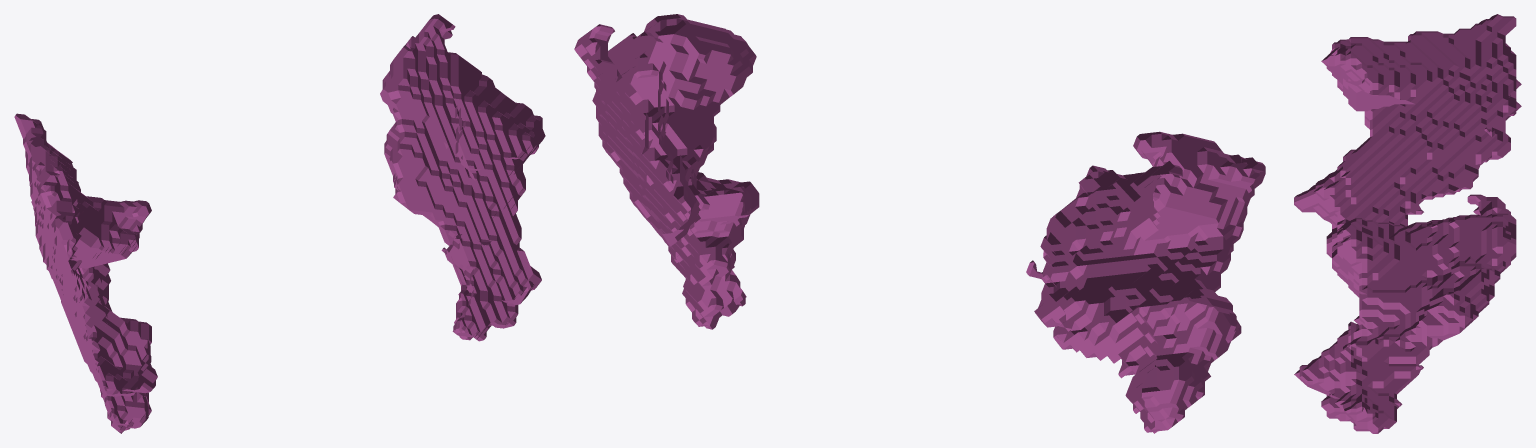
Rendered from region_0025_CON__caudal_octavolateralis_nucleus_.glb.
3 renders of one model, left to right at view 1: azimuth 30°, elevation 25°; view 2: azimuth 150°, elevation 25°; view 3: azimuth 270°, elevation 25°, orthographic. The views are drawn at different scales.
Parts seen in each view (by area): view 1: world; view 2: world; view 3: world.
Boxes of the visible parts, x1,y1,x2,y2 form: world: (14,14,545,433); world: (574,14,1265,433); world: (1294,14,1521,433).
Size of the model in its own units: 0.768 by 0.408 by 0.336.
